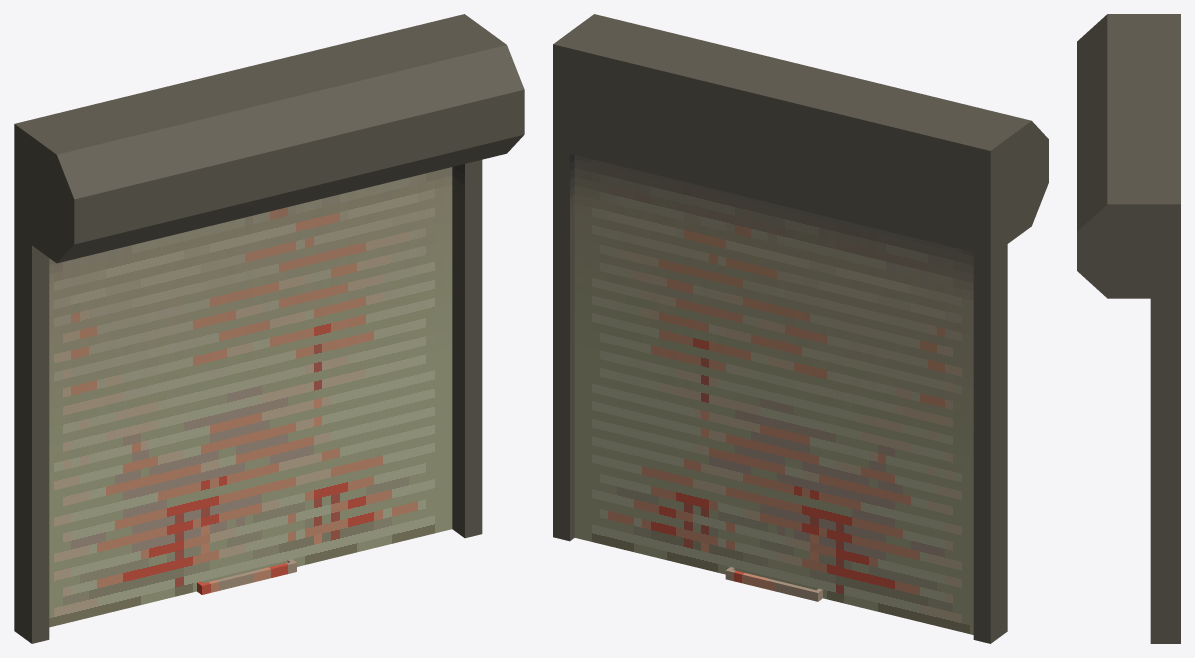
File: RollingDoor.gltf
3 renders of one model, left to right at view 1: azimuth 30°, elevation 25°; view 2: azimuth 150°, elevation 25°; view 3: azimuth 270°, elevation 25°, orthographic. The views are drawn at different scales.
Visible parts, largest first — view 1: Door, Roll, DoorHandle; view 2: Door, Roll, DoorHandle; view 3: Roll.
Part boxes in pixels (left/top/right/bottom): Door: left=49, top=167, right=452, bottom=627; Roll: left=14, top=14, right=524, bottom=643; DoorHandle: left=197, top=559, right=296, bottom=594; Door: left=574, top=155, right=973, bottom=634; Roll: left=553, top=14, right=1048, bottom=643; DoorHandle: left=725, top=567, right=822, bottom=601; Roll: left=1077, top=14, right=1180, bottom=643.
Bounding box in the file's own units: 3.25 × 3.5 × 0.75.
1 material, 1 textured.
